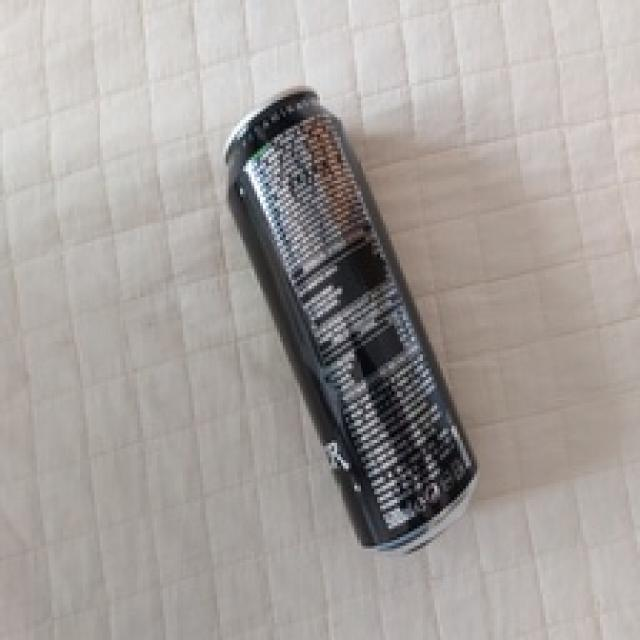recyclable: (221, 83, 478, 556)
